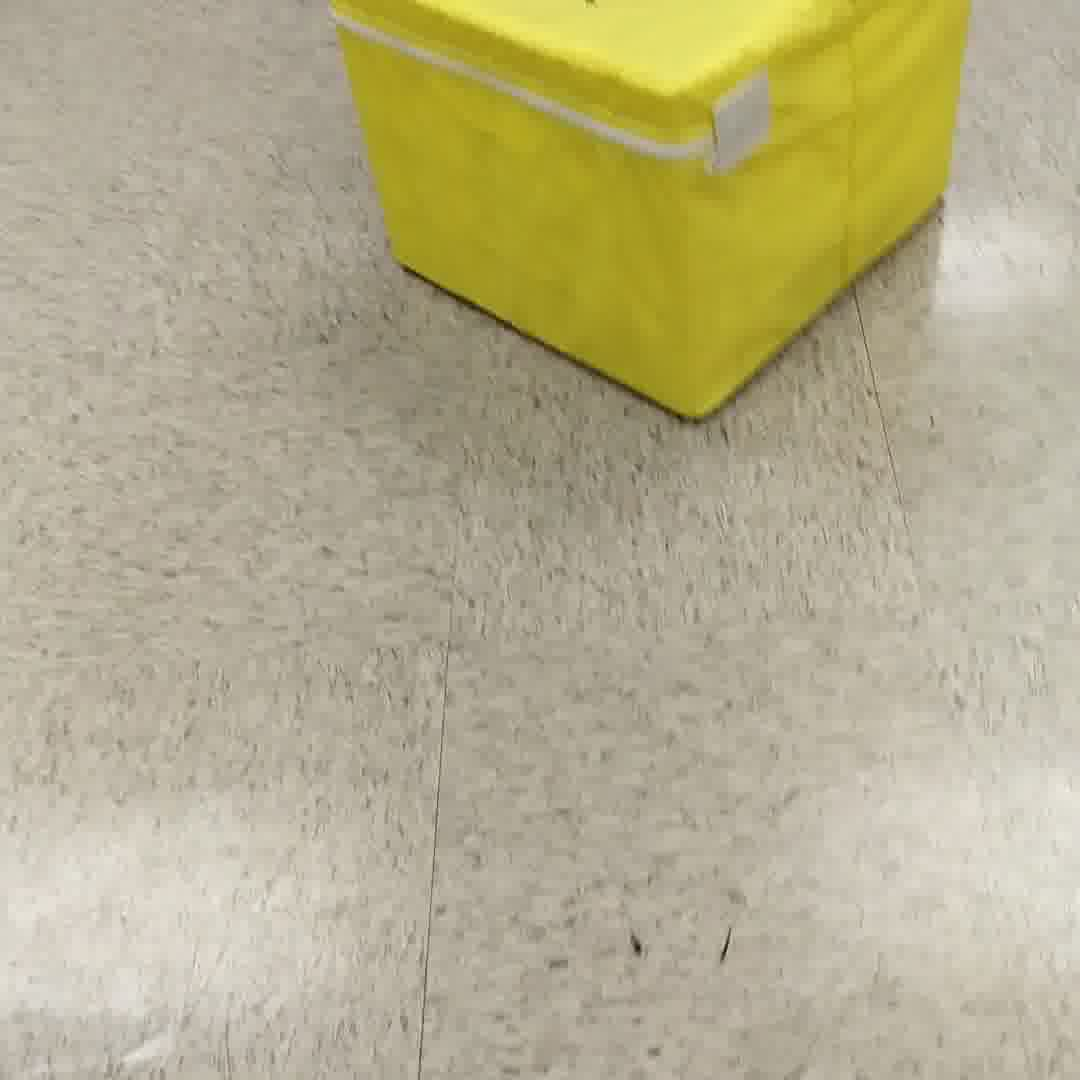box: (327, 3, 956, 428)
